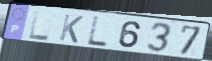3: (145, 21, 173, 55)
6: (118, 20, 142, 50)
7: (179, 23, 204, 57)
K: (57, 13, 85, 45)
L: (85, 15, 109, 49), (28, 9, 51, 42)
